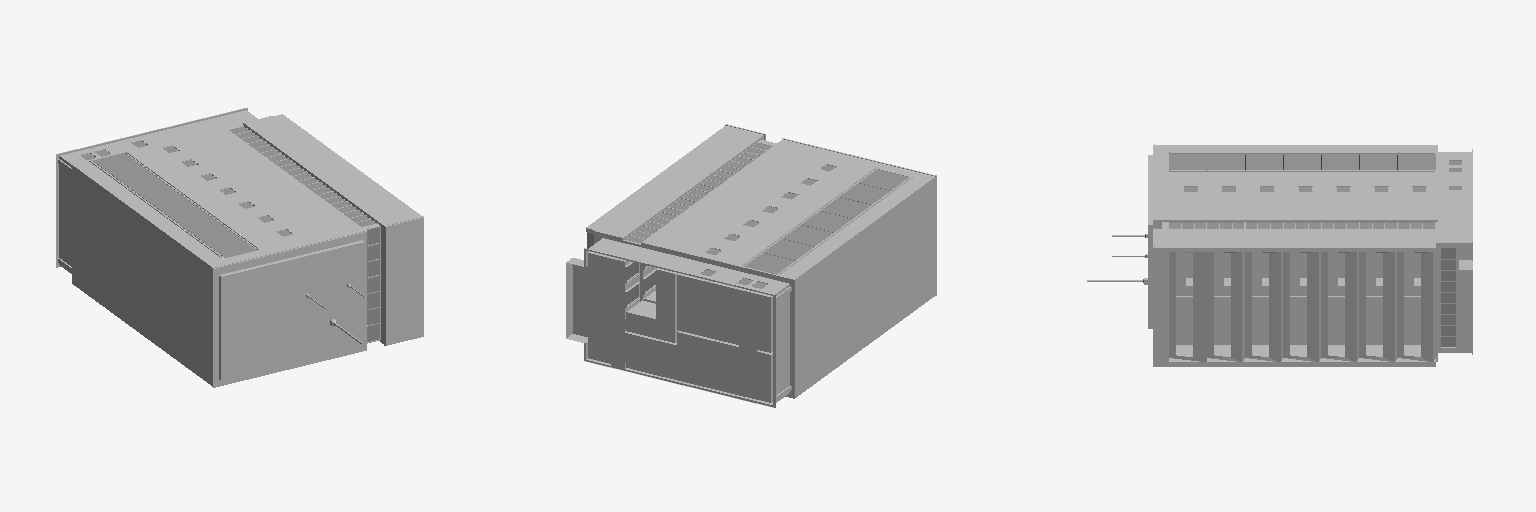
Rendered from Building4.obj.
3 renders of one model, left to right at view 1: azimuth 30°, elevation 25°; view 2: azimuth 150°, elevation 25°; view 3: azimuth 270°, elevation 25°, orthographic.
Visible parts, largest first — view 1: Residential_Buildings_004_Cube.009; view 2: Residential_Buildings_004_Cube.009; view 3: Residential_Buildings_004_Cube.009.
Part boxes in pixels (bbox=[...]): Residential_Buildings_004_Cube.009: bbox=[56, 108, 423, 387]; Residential_Buildings_004_Cube.009: bbox=[566, 124, 936, 407]; Residential_Buildings_004_Cube.009: bbox=[1087, 144, 1472, 366].
Size of the model in its own units: 23.1 by 12.59 by 36.39.